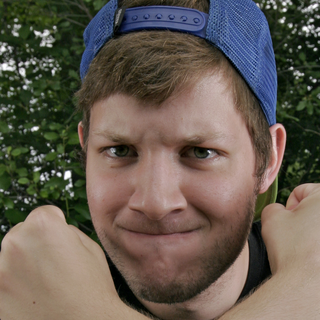eye: (177, 140, 227, 165), (90, 139, 142, 163)
